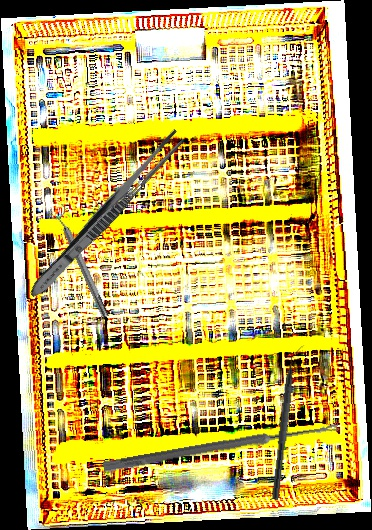Chopper: (271, 342, 306, 502)
Dressing Forceps: (24, 125, 188, 304)
Fixation Ring: (46, 202, 115, 322)
Surgical Spoon: (102, 420, 340, 474)
